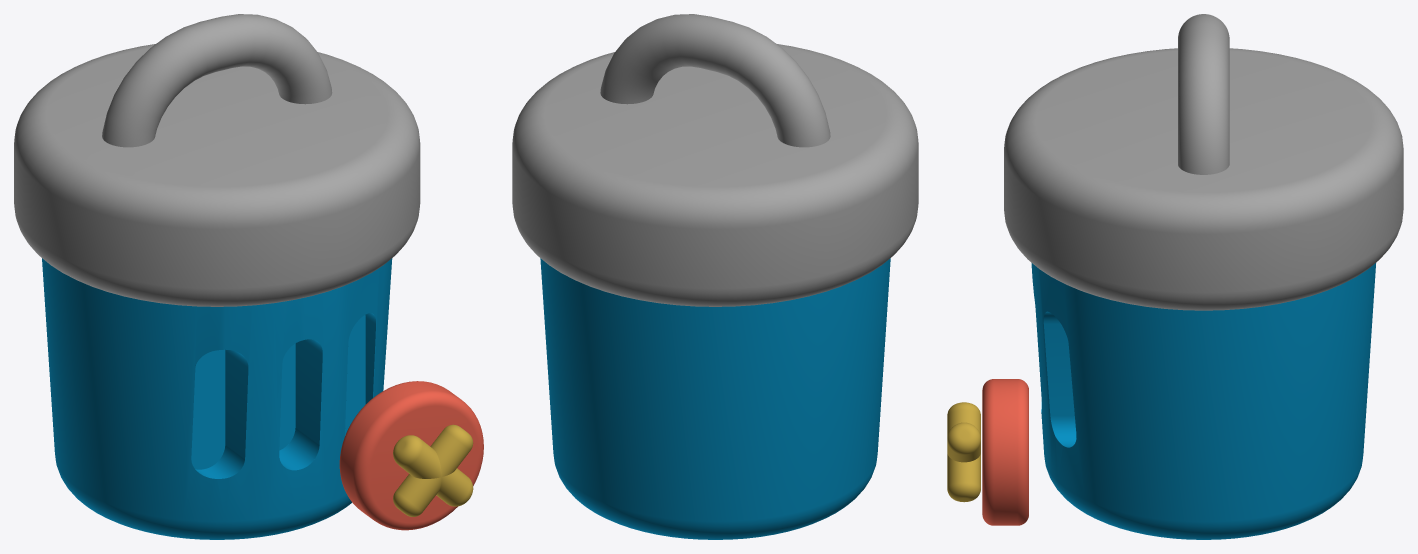
File: delete-3d-animated-icon-1334895052318.glb
3 renders of one model, left to right at view 1: azimuth 30°, elevation 25°; view 2: azimuth 150°, elevation 25°; view 3: azimuth 270°, elevation 25°, orthographic.
Parts seen in each view (by area): view 1: Cylinder.009, Cylinder.001, Plane.002, Cylinder.010, Plane.003, Cylinder.008; view 2: Cylinder.009, Cylinder.001, Plane.002; view 3: Cylinder.009, Cylinder.001, Plane.002, Cylinder.010, Plane.003, Cylinder.008.
Boxes of the visible parts, x1=… form: Cylinder.009: x1=14, y1=44, x2=420, y2=306; Cylinder.001: x1=42, y1=258, x2=392, y2=539; Plane.002: x1=102, y1=14, x2=332, y2=147; Cylinder.010: x1=339, y1=381, x2=483, y2=530; Plane.003: x1=393, y1=424, x2=473, y2=516; Cylinder.008: x1=196, y1=304, x2=375, y2=515; Cylinder.009: x1=512, y1=44, x2=918, y2=306; Cylinder.001: x1=540, y1=258, x2=890, y2=539; Plane.002: x1=600, y1=14, x2=830, y2=147; Cylinder.009: x1=1004, y1=48, x2=1403, y2=310; Cylinder.001: x1=1031, y1=263, x2=1375, y2=539; Plane.002: x1=1178, y1=14, x2=1229, y2=174; Cylinder.010: x1=982, y1=379, x2=1028, y2=525; Plane.003: x1=947, y1=402, x2=980, y2=502; Cylinder.008: x1=1043, y1=311, x2=1150, y2=419.
Bounding box in the file's own units: 1.27 × 1.6 × 1.45.
